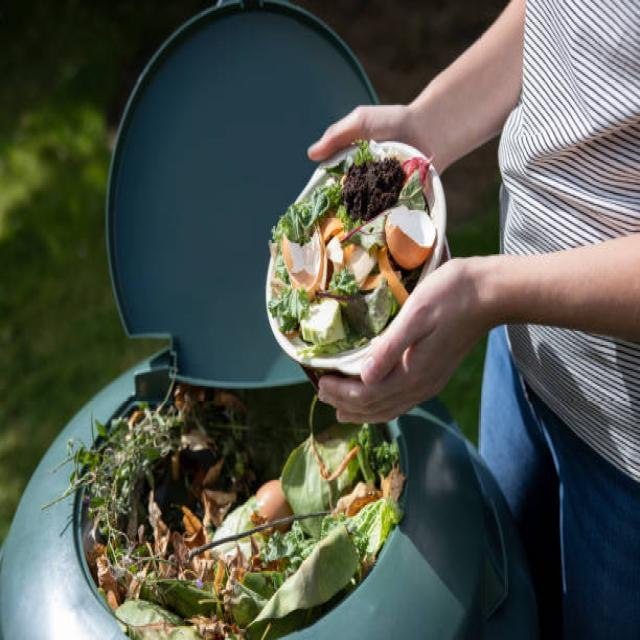Organic: (107, 362, 380, 640), (263, 153, 432, 357)
